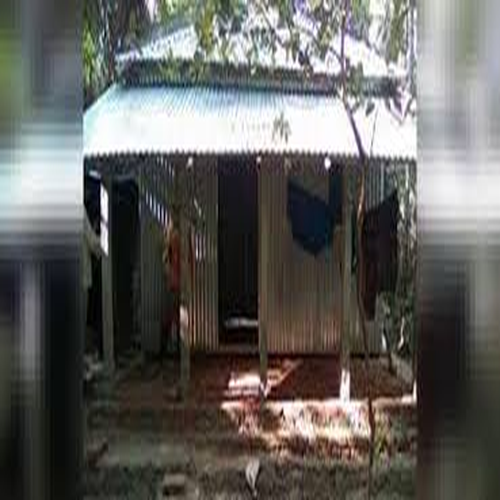Tin-shade House: (93, 15, 419, 400)
